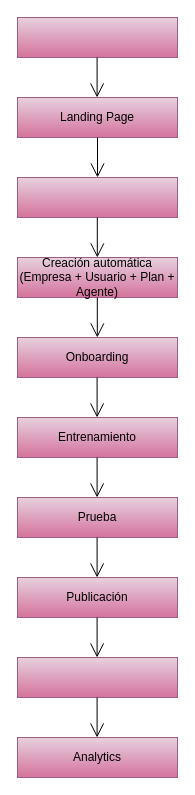
Some shapes in this 195 by 795 pixel diagram are drawn without their labels. Each missing label, with the box of its shape:
Cliente descubre AtlasIA: (16, 16, 178, 58)
Cliente final conversa: (16, 656, 178, 698)
Registro: (16, 176, 178, 218)
